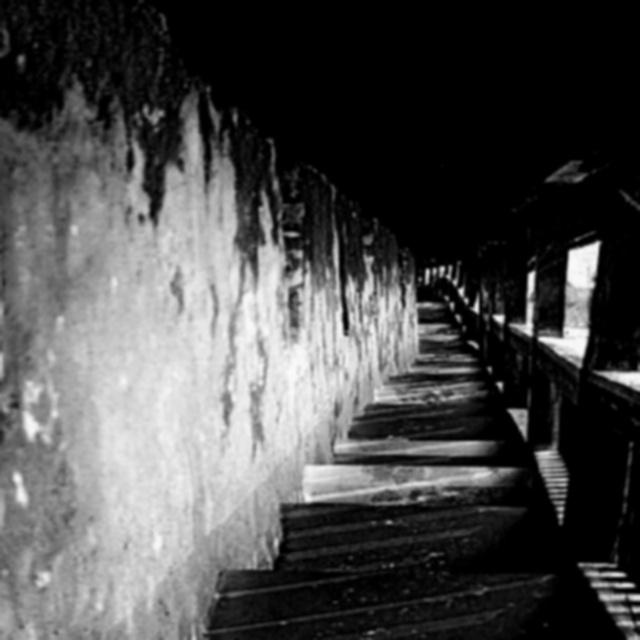stair: (196, 297, 590, 640)
